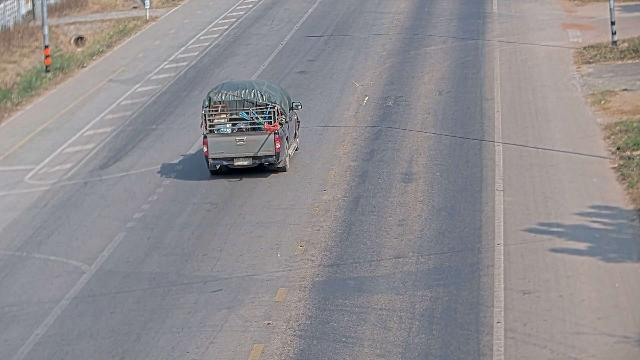pickup-truck: (199, 78, 302, 175)
